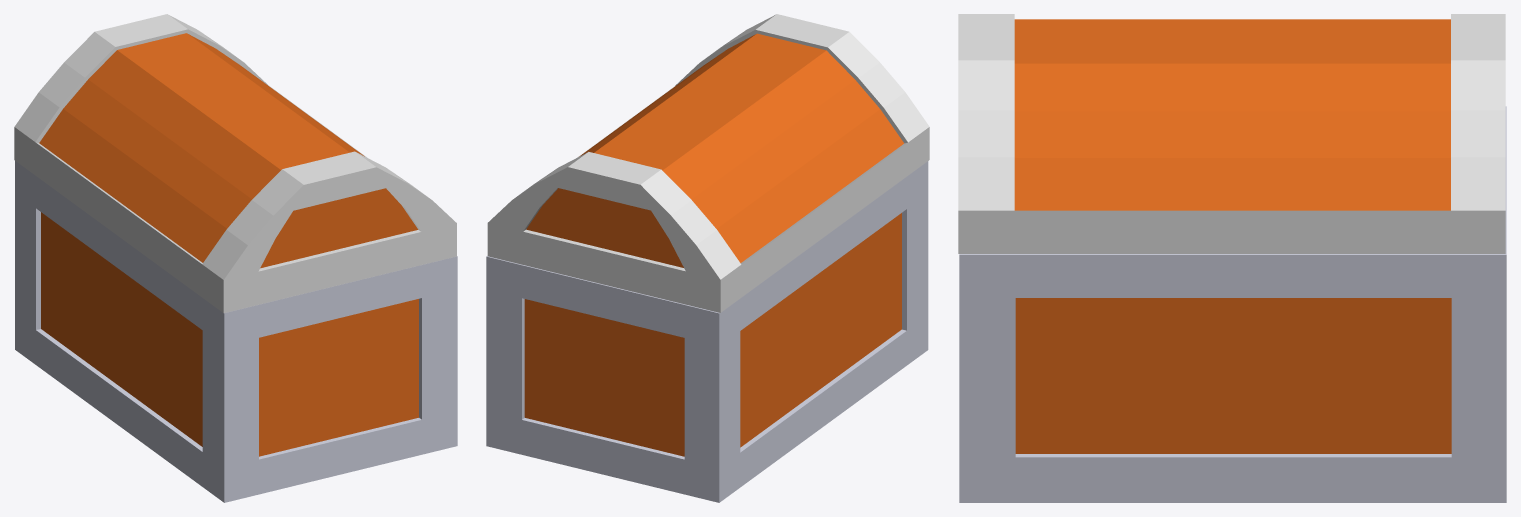
Rendered from chest mimic.fbx.
The picture shows the model from 3 angles, left to right: view 1: azimuth 30°, elevation 25°; view 2: azimuth 150°, elevation 25°; view 3: azimuth 270°, elevation 25°; orthographic projection. The views are drawn at different scales.
Visible parts, largest first — view 1: lower chest, upper chest; view 2: lower chest, upper chest; view 3: lower chest, upper chest.
Boxes of the visible parts, x1,y1,x2,y2 form: lower chest: (15, 161, 457, 502); upper chest: (14, 14, 456, 312); lower chest: (486, 161, 928, 502); upper chest: (487, 14, 929, 312); lower chest: (959, 106, 1506, 502); upper chest: (958, 14, 1505, 253).
Size of the model in its own units: 129 by 158 by 200.
